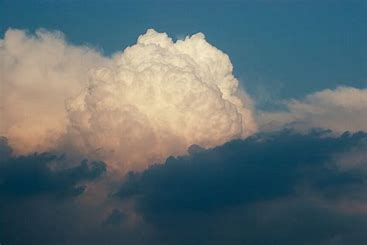Cumulus: (58, 20, 269, 180)
